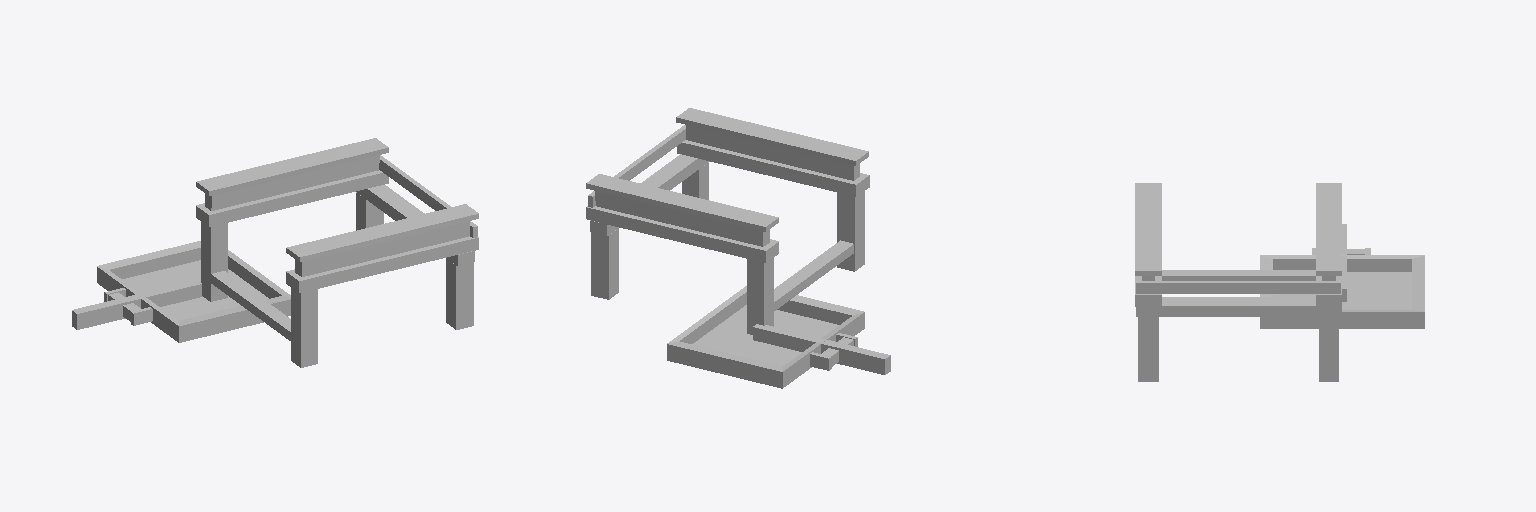
Rendered from mechanical_sieve.obj.
The picture shows the model from 3 angles: view 1: azimuth 30°, elevation 25°; view 2: azimuth 150°, elevation 25°; view 3: azimuth 270°, elevation 25°; orthographic projection.
Visible parts, largest first — view 1: base, sieve.002, sieve.001, arm; view 2: base, sieve.002, sieve.001, arm; view 3: base, sieve.002, sieve.001.
Part boxes in pixels (x1,y1,x2,y2): base: (196, 138, 478, 367); sieve.002: (97, 241, 290, 342); sieve.001: (122, 260, 268, 320); arm: (72, 279, 202, 329); base: (586, 108, 869, 334); sieve.002: (667, 286, 864, 388); sieve.001: (692, 305, 838, 365); arm: (753, 324, 890, 374); base: (1135, 183, 1341, 381); sieve.002: (1260, 248, 1424, 328); sieve.001: (1273, 272, 1411, 309).
Size of the model in its own units: 1.68 by 0.6234 by 1.4.